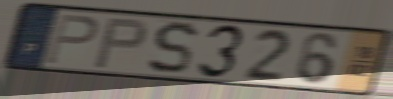2: (242, 28, 294, 83)
3: (193, 23, 248, 80)
6: (294, 31, 342, 87)
P: (43, 12, 101, 66), (91, 17, 149, 71)
S: (145, 20, 200, 77)
